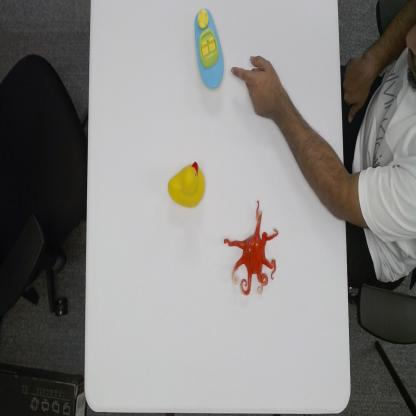Arm: (284, 84, 349, 224)
Boat: (193, 5, 226, 93)
Duck: (167, 161, 206, 210)
Hand: (230, 52, 284, 118)
Octopus: (223, 198, 280, 297)
